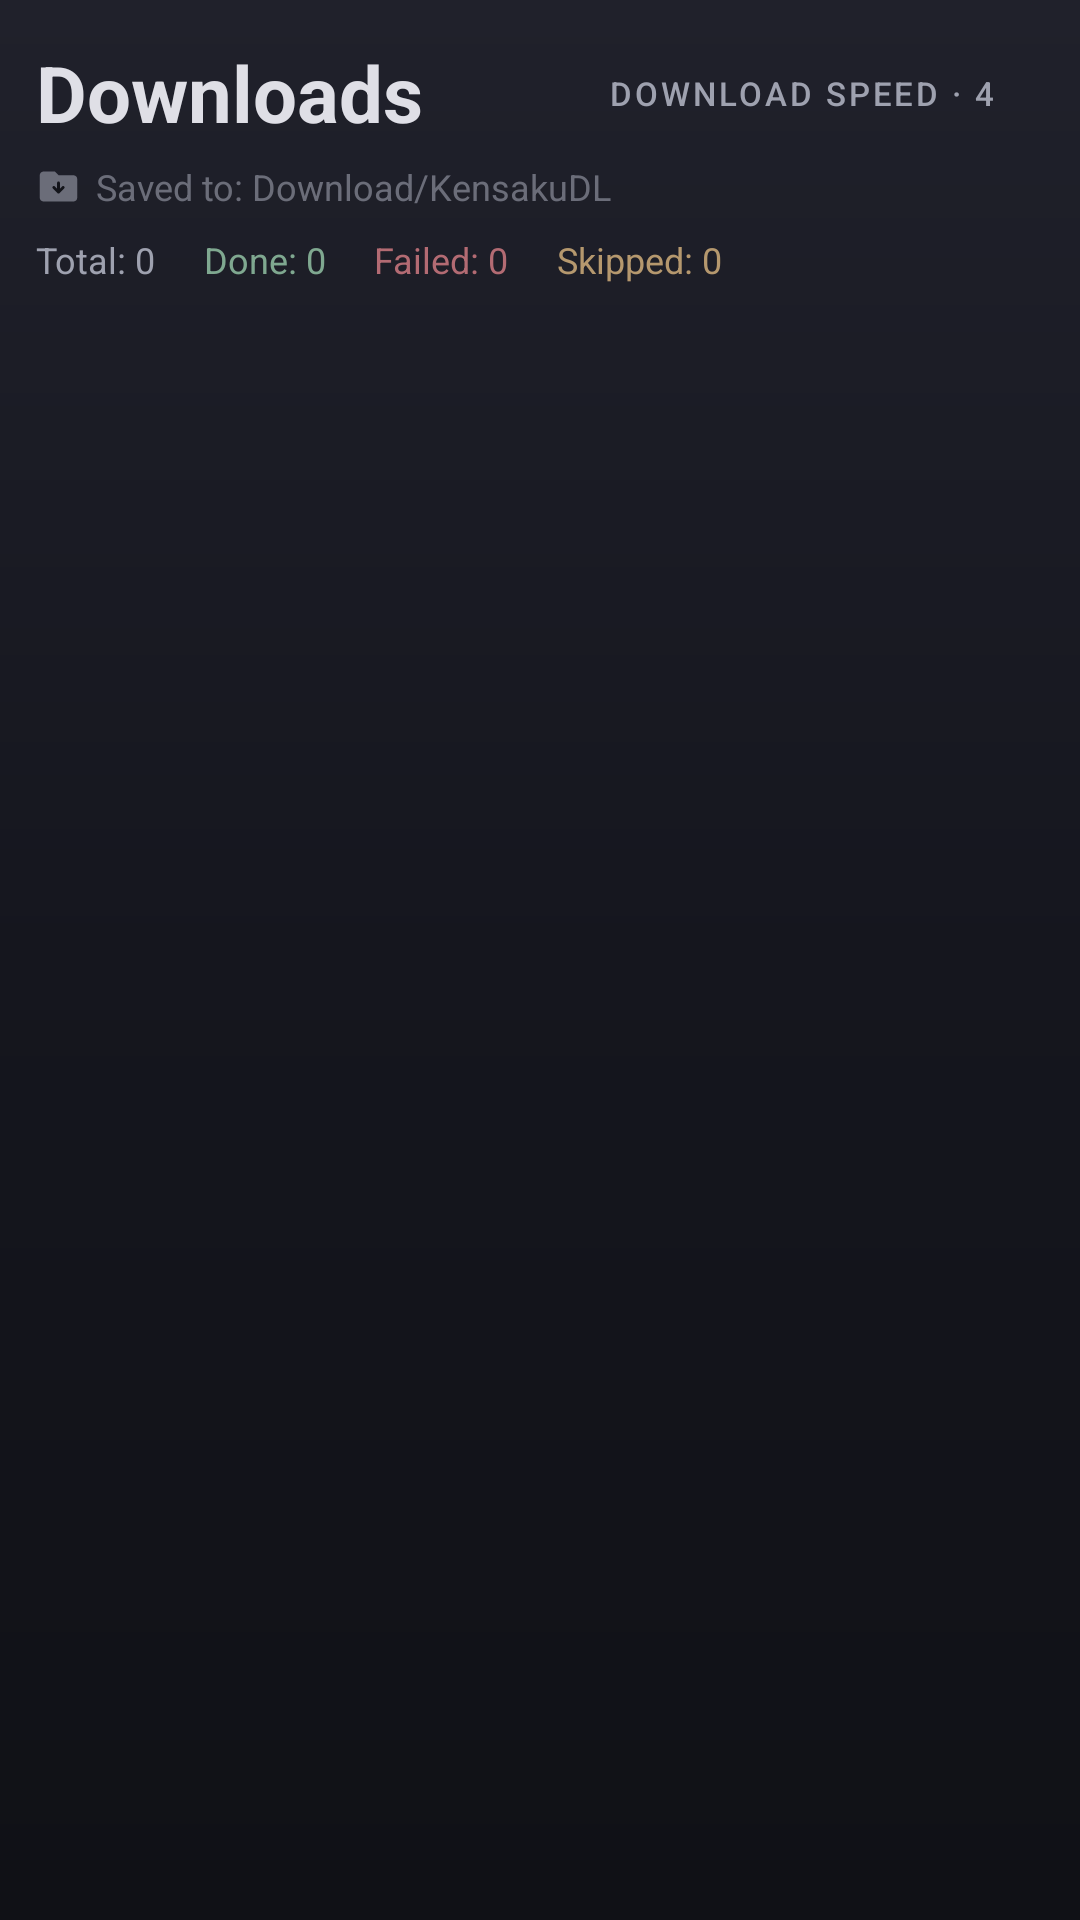

Where to tap for icons on this 1080×1920 app screen, as [x,y]:
folder download: [58,186]
